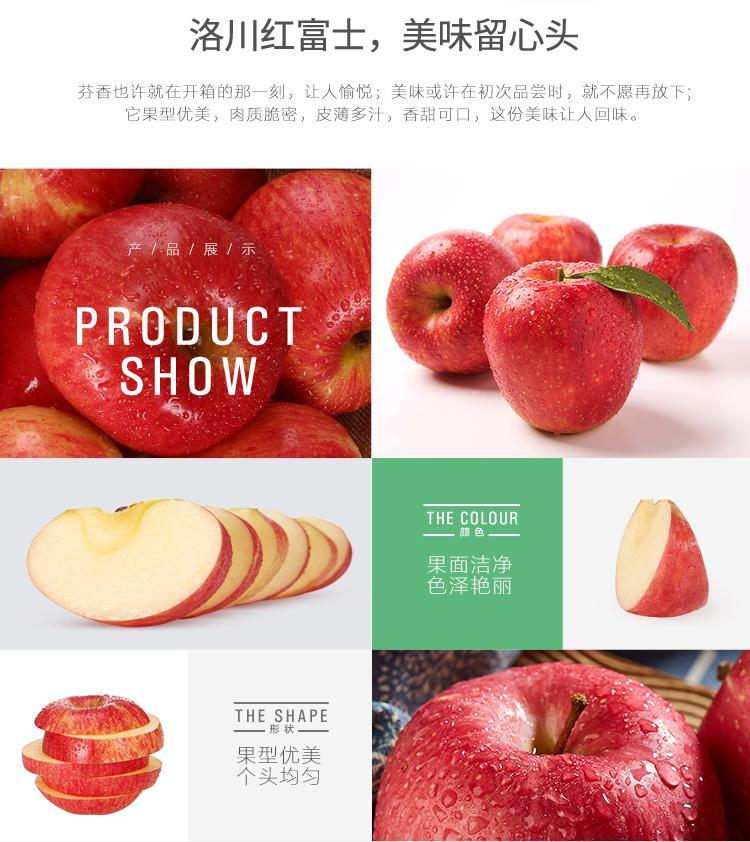apple: (16, 201, 291, 459), (375, 657, 726, 840), (236, 165, 375, 444), (486, 268, 648, 440), (387, 231, 521, 377), (596, 221, 737, 358), (1, 168, 142, 262), (694, 651, 749, 835), (488, 214, 603, 269), (139, 168, 260, 216)
